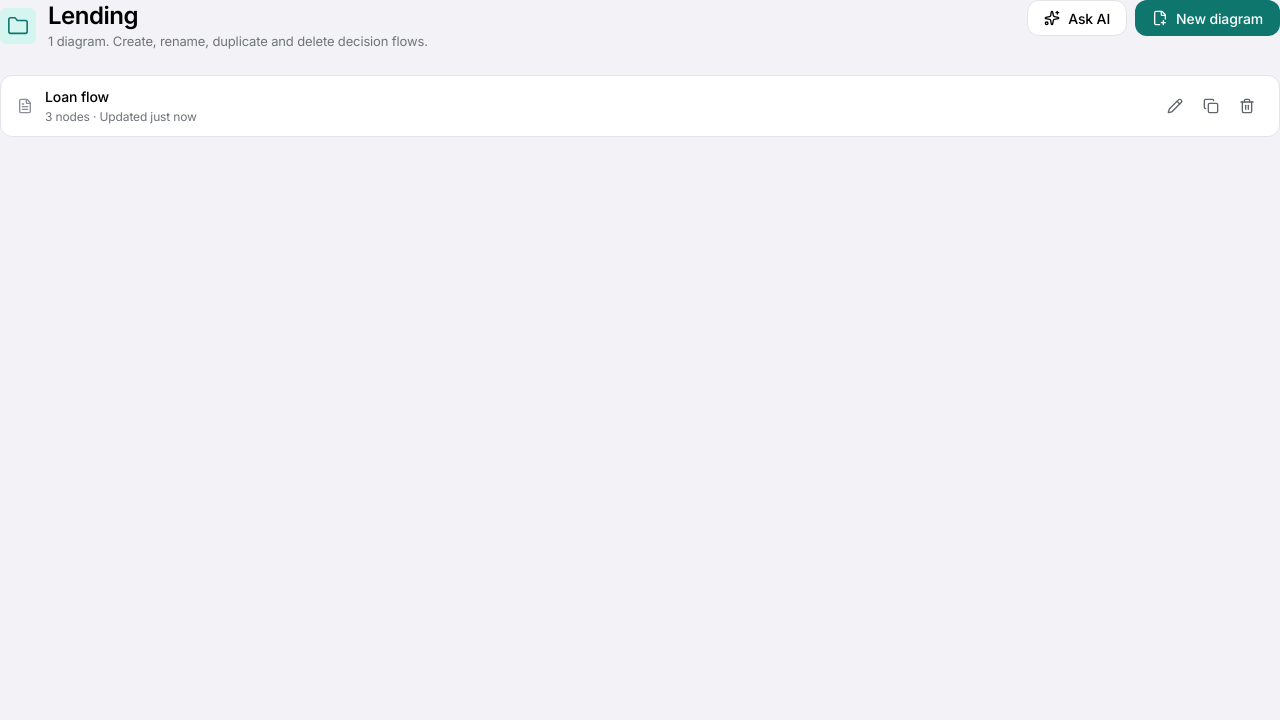
Test: ProjectPage › lists diagrams, links to the editor and opens the rename dialog
The image size is (1280, 720).
Expected: the text "3 nodes · Updated just now" is shown, left=45, top=109, right=197, bottom=126
Step 1. Click the button named "Rename Loan flow" → click(1175, 106), box left=1159, top=90, right=1191, bottom=122
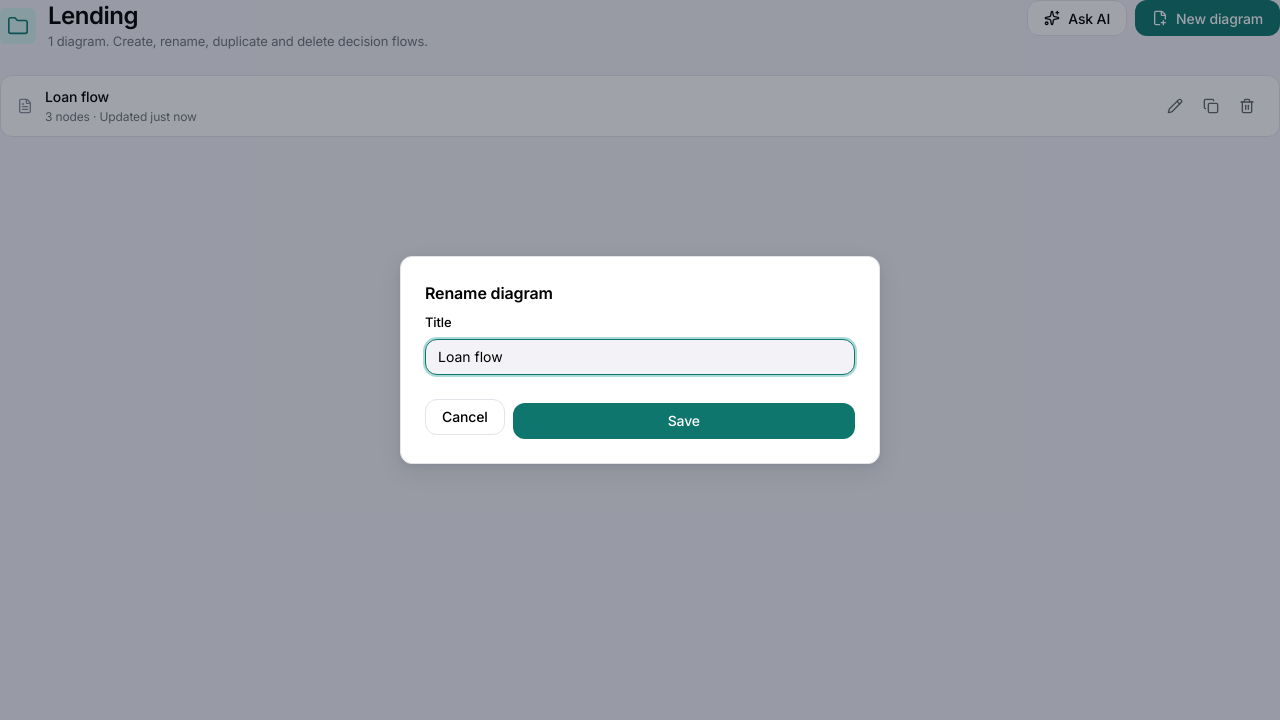
Expected: the dialog "Rename diagram" is shown, left=400, top=256, right=880, bottom=464
